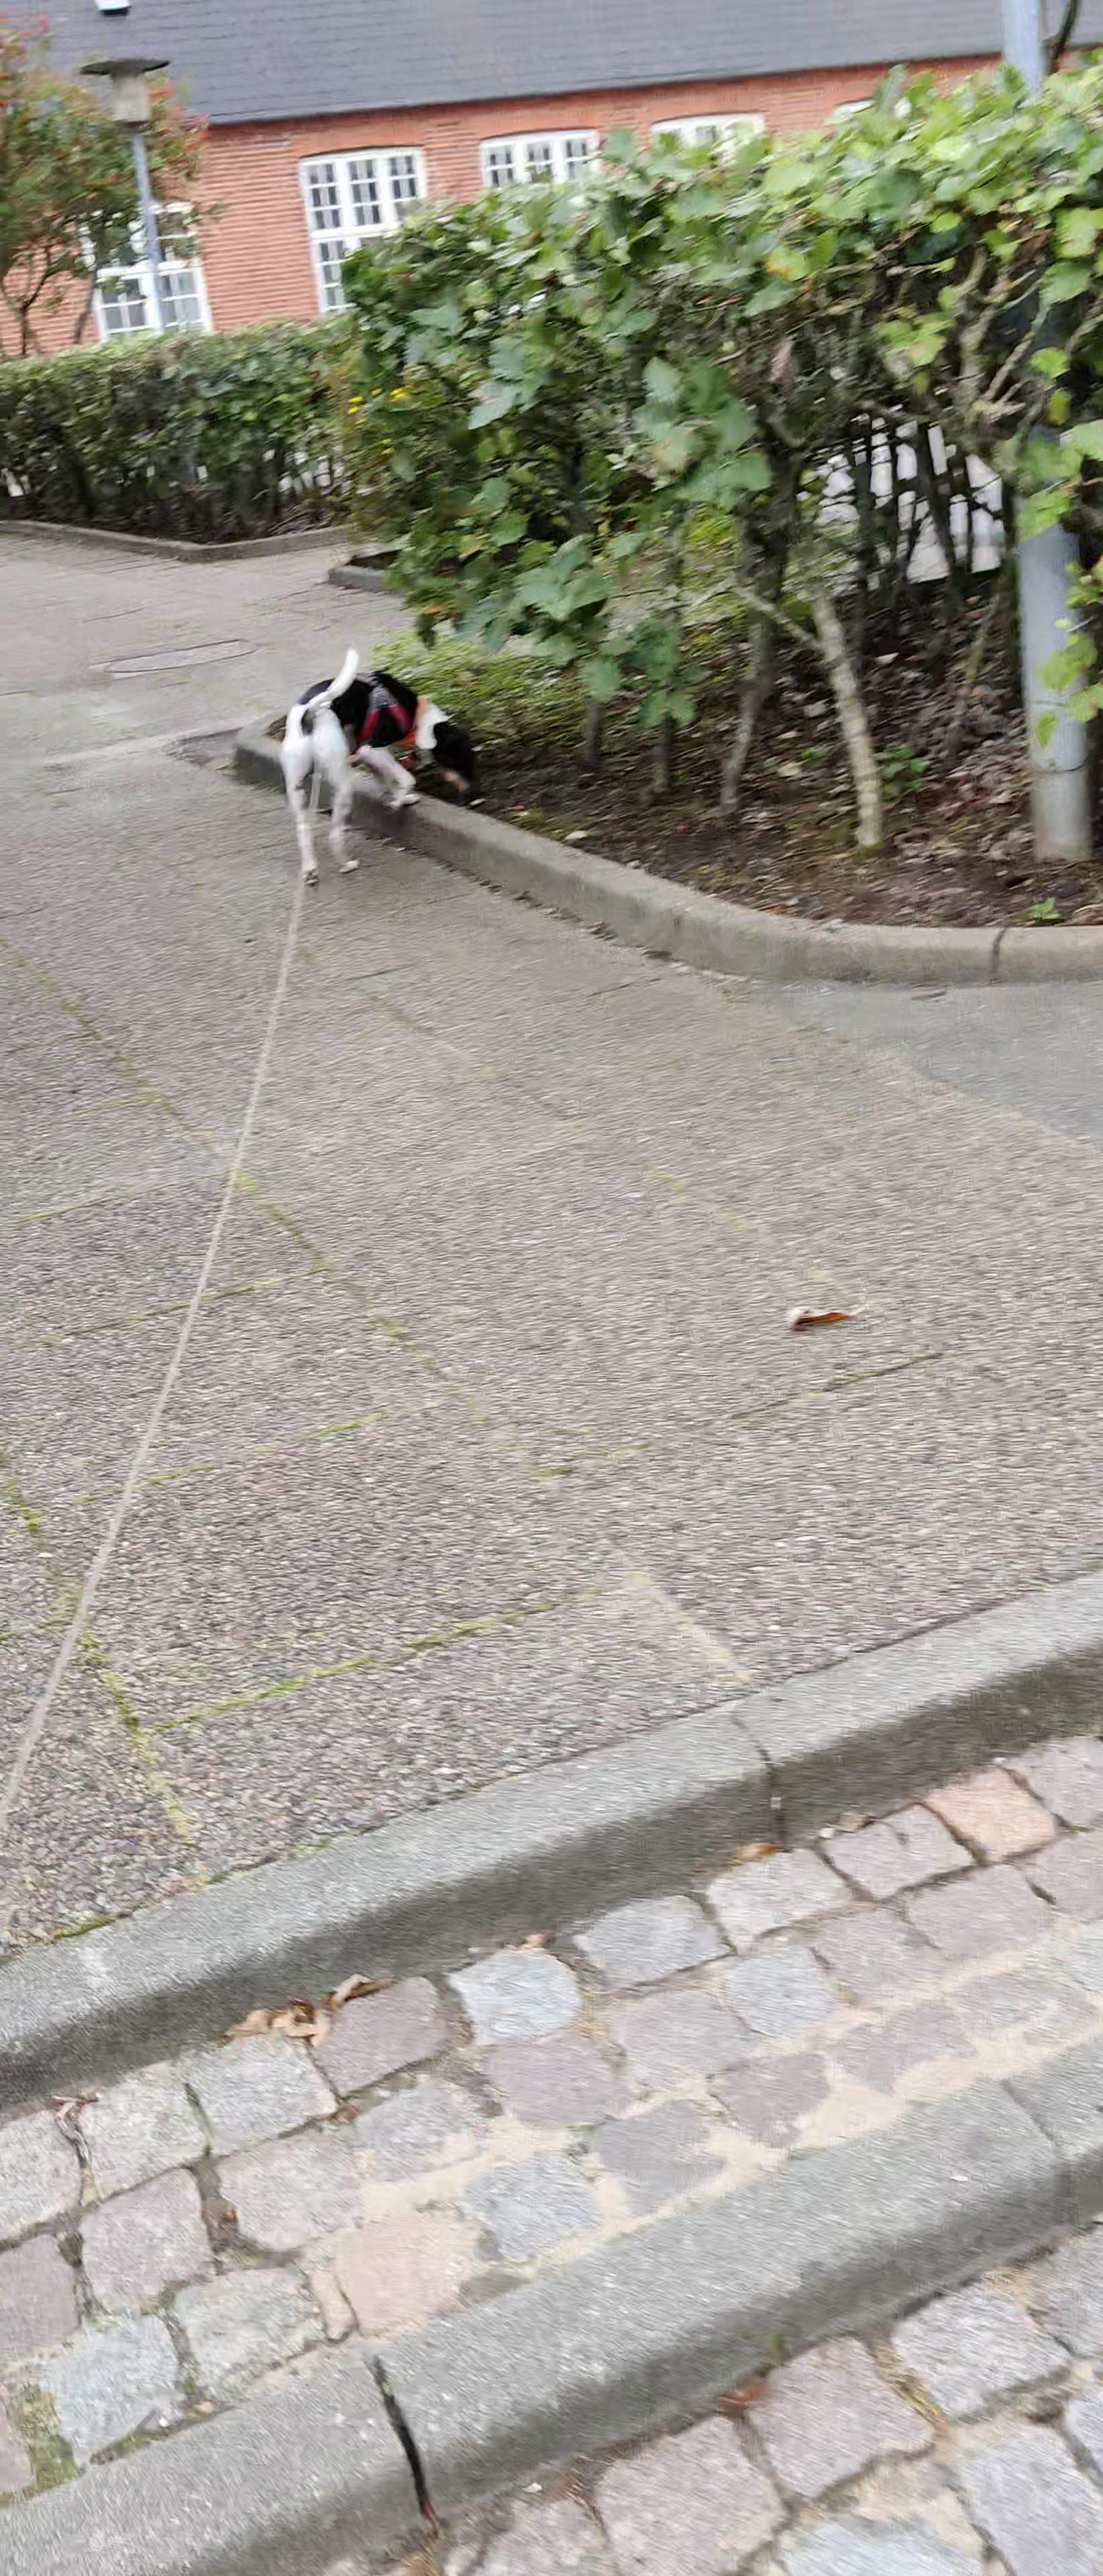Dog: (266, 636, 490, 899)
